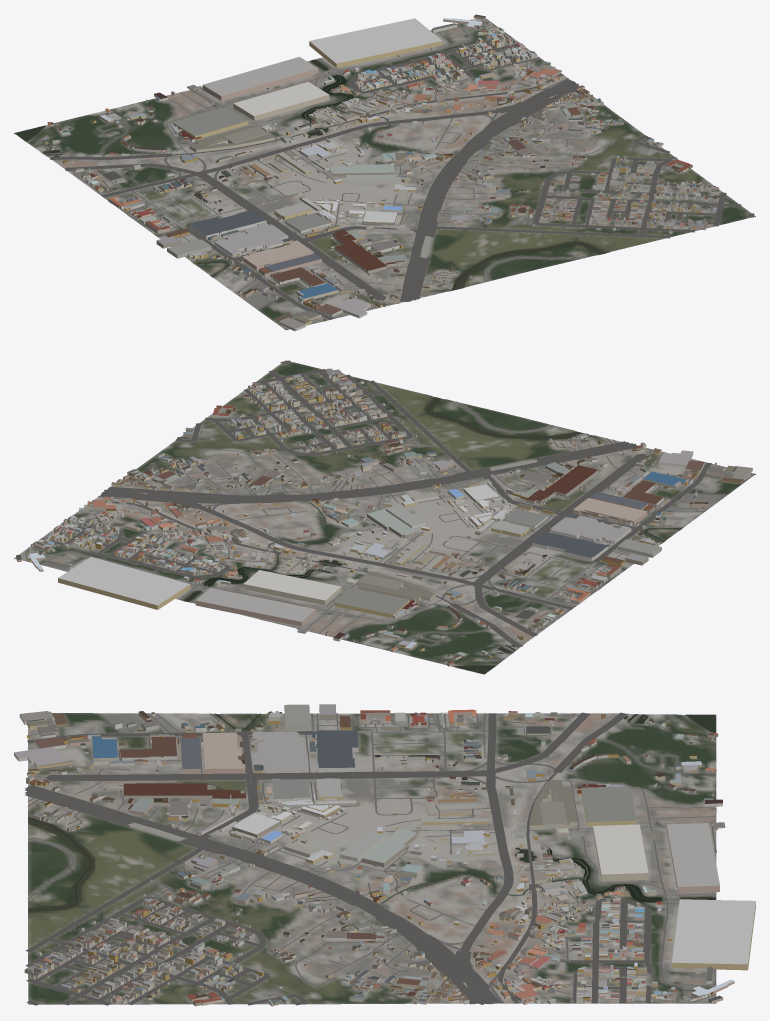
3 views of the same model, one above another, from view 1: azimuth 30°, elevation 25°; view 2: azimuth 150°, elevation 25°; view 3: azimuth 270°, elevation 25° (orthographic). The views are drawn at different scales.
Visible parts, largest first — view 1: ground, buildings, roads, water; view 2: ground, buildings, roads, water; view 3: ground, buildings, roads, water.
Part boxes in pixels (left/top/right/bottom): ground: left=14, top=18, right=755, bottom=330; buildings: left=44, top=14, right=726, bottom=331; roads: left=33, top=24, right=754, bottom=321; water: left=15, top=59, right=606, bottom=290; ground: left=14, top=360, right=755, bottom=674; buildings: left=16, top=368, right=752, bottom=666; roads: left=25, top=360, right=719, bottom=661; water: left=184, top=397, right=681, bottom=673; ground: left=28, top=713, right=716, bottom=1004; buildings: left=14, top=704, right=755, bottom=1006; roads: left=25, top=712, right=716, bottom=1005; water: left=28, top=713, right=716, bottom=912.
Bounding box in the file's own units: 1433 × 26.09 × 1510.
